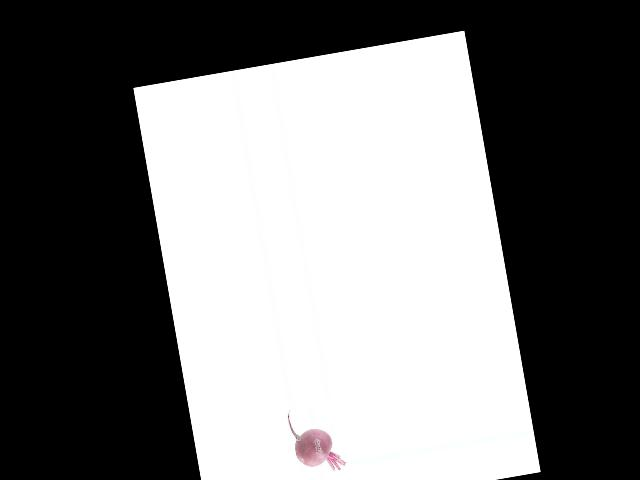beet: (286, 401, 346, 477)
